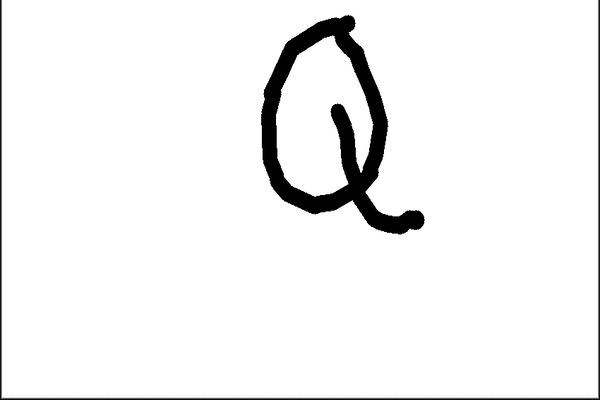Q: (249, 10, 448, 246)
